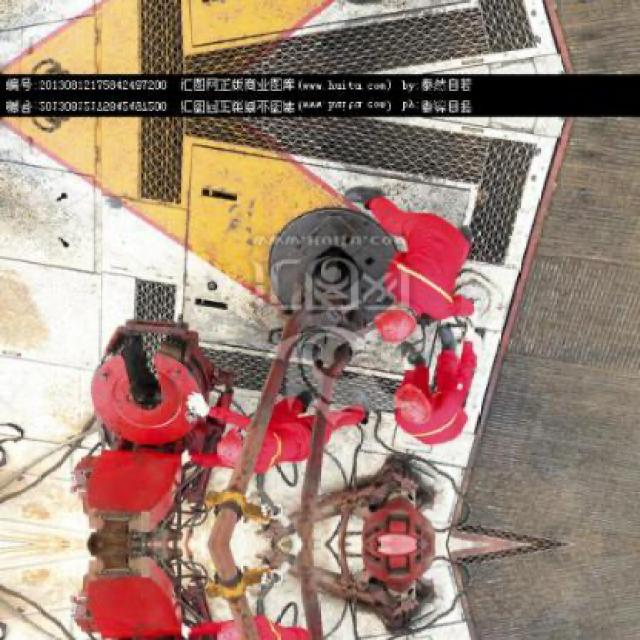con casco: (386, 377, 442, 434)
